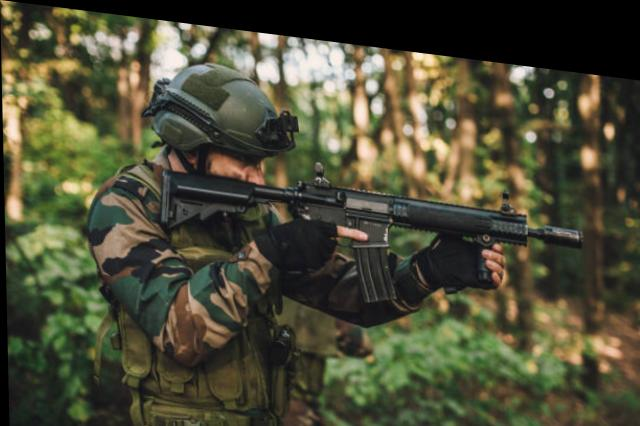other: (92, 48, 358, 424)
